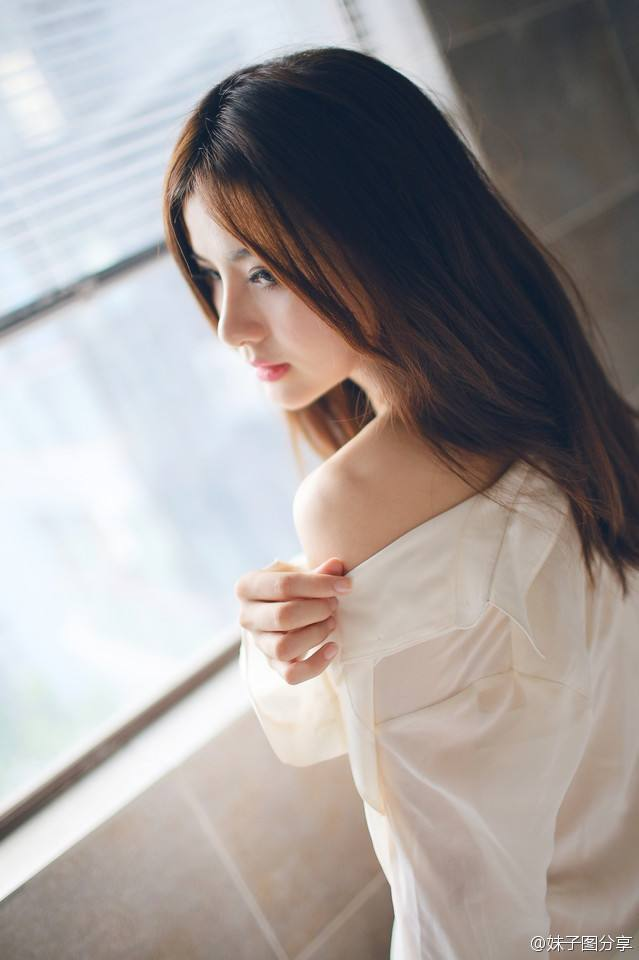person: (160, 131, 578, 897)
